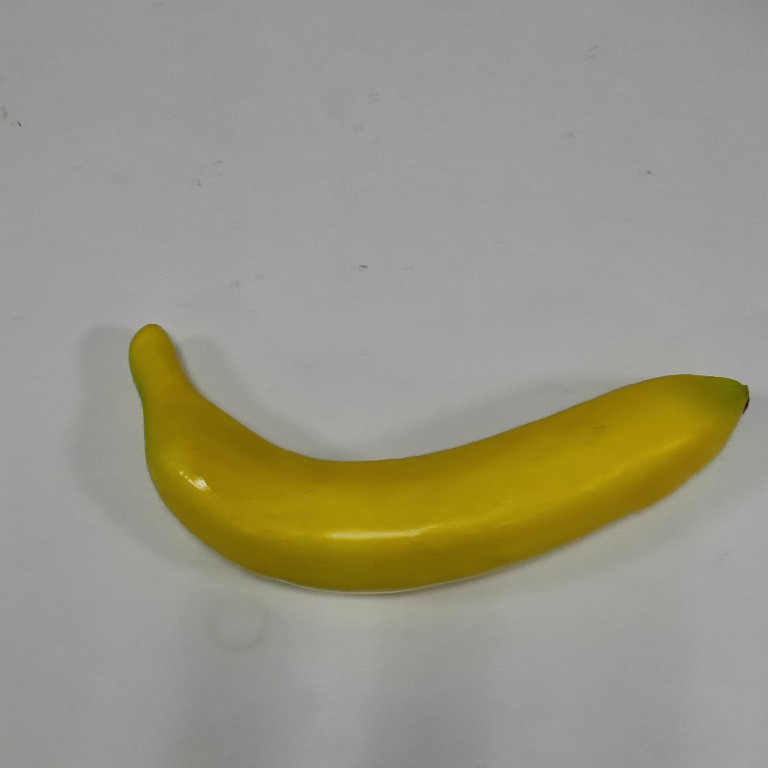fruit_banana: (125, 321, 754, 600)
